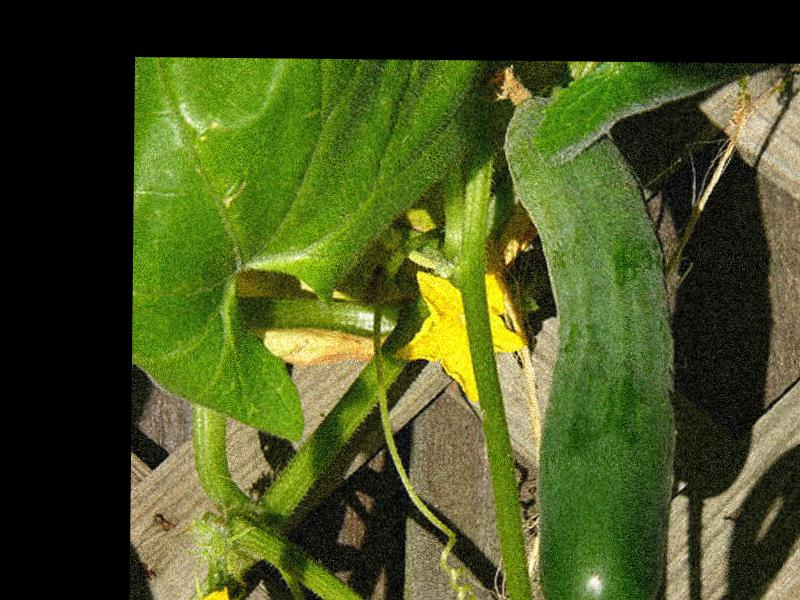Cucumber: (499, 66, 681, 600)
